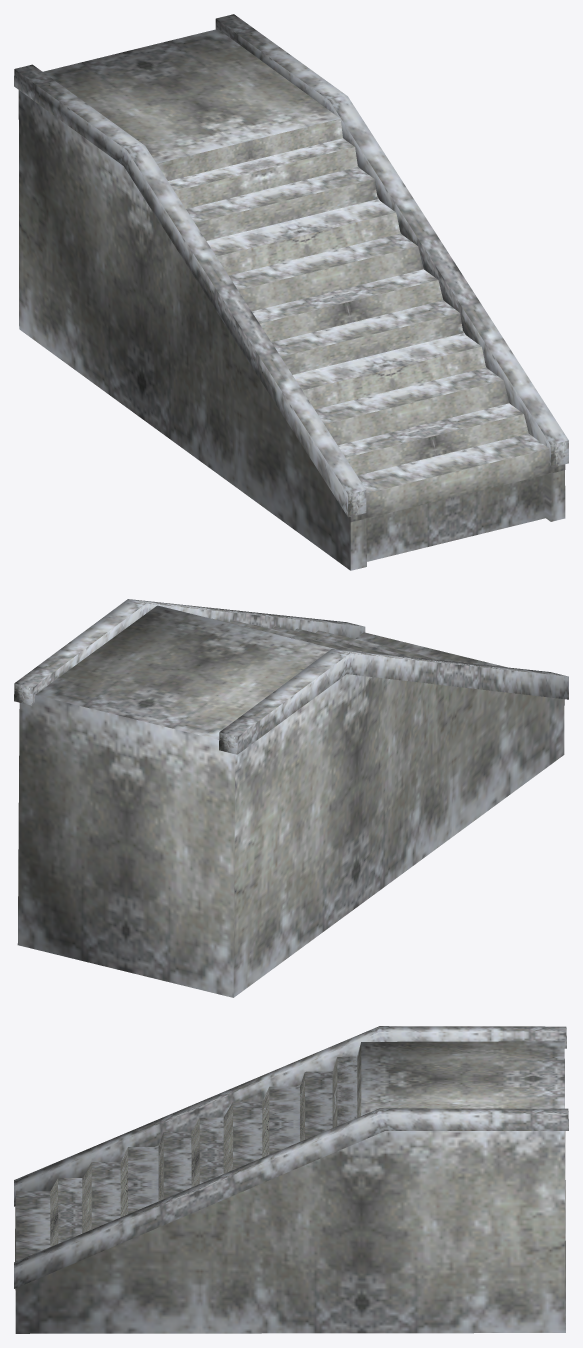
Rendered from S_Build_Snowland043.FBX.
3 views of the same model, one above another, from view 1: azimuth 30°, elevation 25°; view 2: azimuth 150°, elevation 25°; view 3: azimuth 270°, elevation 25° (orthographic). The views are drawn at different scales.
Parts seen in each view (by area): view 1: S_Build_Snowland043; view 2: S_Build_Snowland043; view 3: S_Build_Snowland043.
Part boxes in pixels (left/top/right/bottom): S_Build_Snowland043: left=14, top=14, right=568, bottom=570; S_Build_Snowland043: left=14, top=599, right=568, bottom=997; S_Build_Snowland043: left=14, top=1026, right=568, bottom=1333.
Size of the model in its own units: 558 by 1442 by 627.
